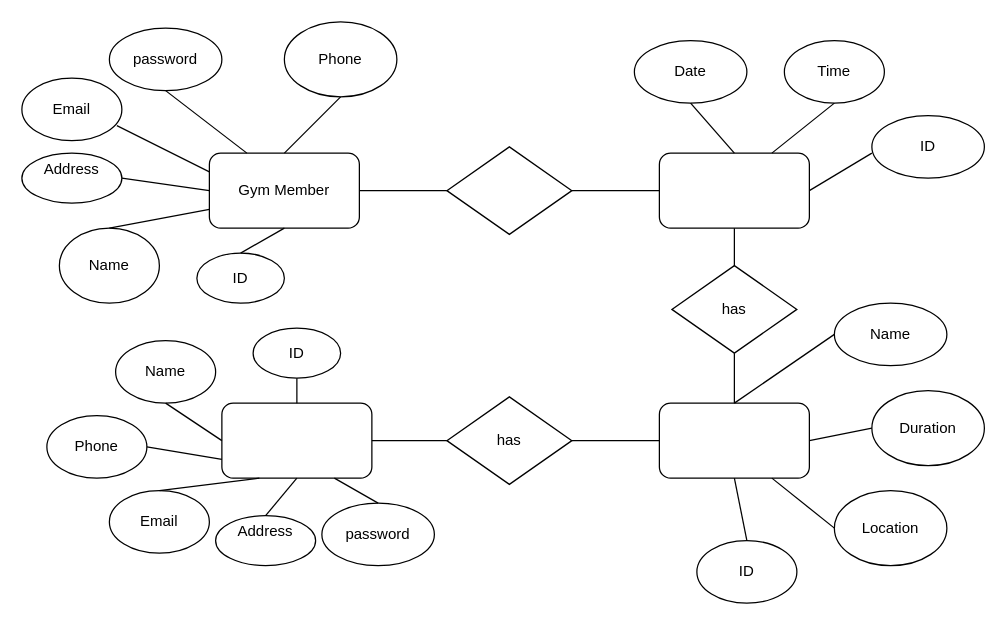
Some shapes in this 1006 by 625 pixel diagram are drawn without their labels. The shapes that lost their labels are listed below. From the top down, each one's centre as x and y in pixels, then its label:
At pixel 509 190: "make".
At pixel 733 190: "Booking".
At pixel 296 440: "Trainer".
At pixel 733 440: "Service".
